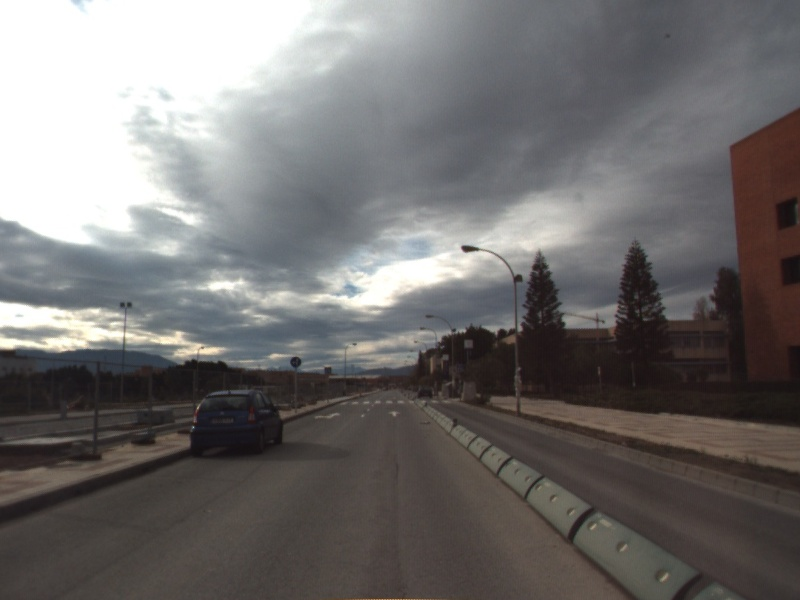STRAIGHT: (386, 408, 403, 418)
STRAIGHT_LEFT: (312, 410, 343, 421)
